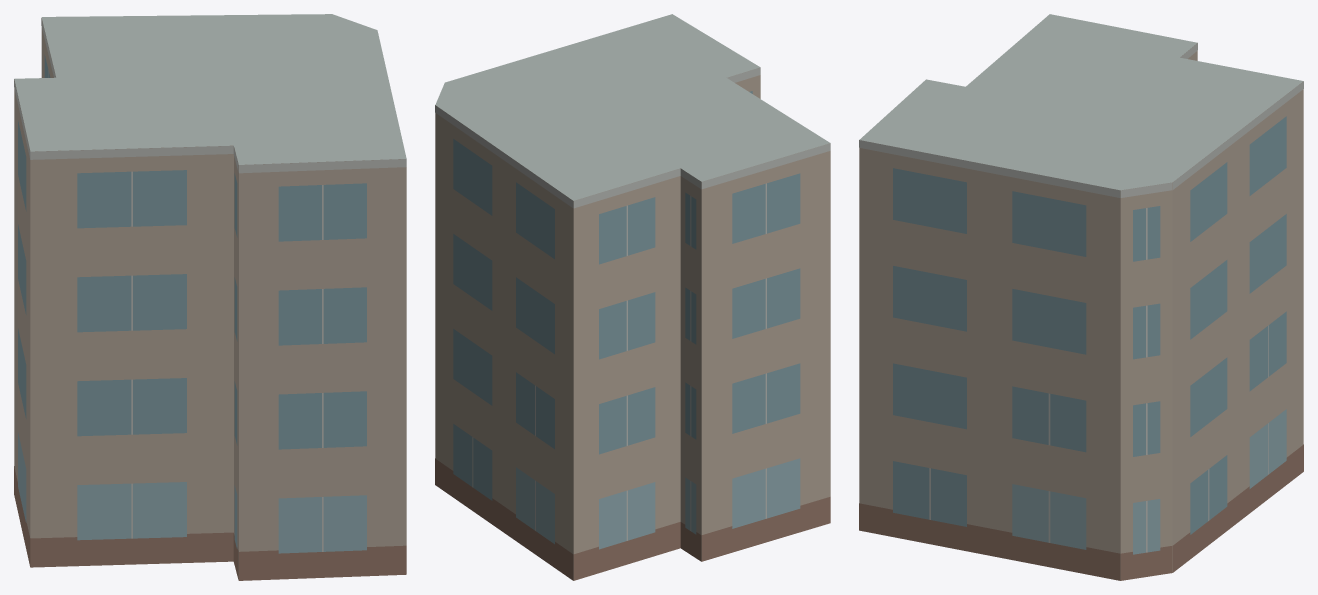
Rendered from survey-upis-32487107.glb.
3 views of the same model, side by side, from view 1: azimuth 30°, elevation 25°; view 2: azimuth 150°, elevation 25°; view 3: azimuth 270°, elevation 25° (orthographic). The views are drawn at different scales.
Parts seen in each view (by area): view 1: survey-upis-32487107.tmp; view 2: survey-upis-32487107.tmp; view 3: survey-upis-32487107.tmp.
Part boxes in pixels (x1,y1,x2,y2): survey-upis-32487107.tmp: (14,14,406,580); survey-upis-32487107.tmp: (435,14,830,580); survey-upis-32487107.tmp: (859,14,1303,580).
Size of the model in its own units: 11.82 by 12.2 by 12.6.
